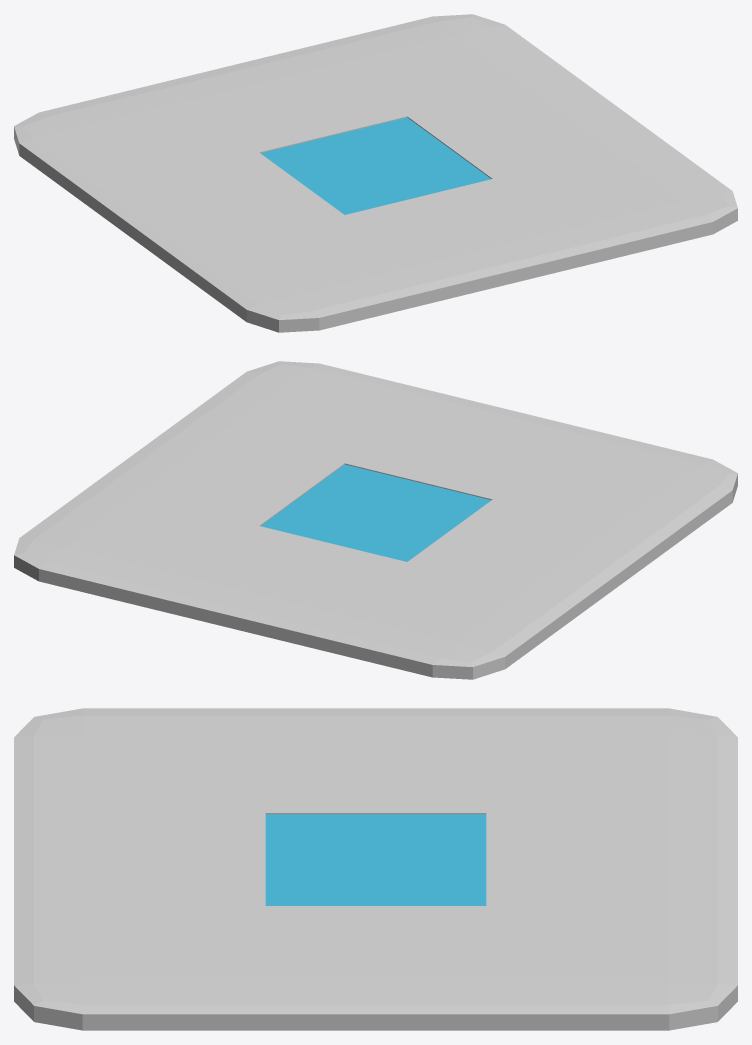
The model's file is Platform.fbx.
3 views of the same model, one above another, from view 1: azimuth 30°, elevation 25°; view 2: azimuth 150°, elevation 25°; view 3: azimuth 270°, elevation 25° (orthographic). The views are drawn at different scales.
Parts seen in each view (by area): view 1: Cube; view 2: Cube; view 3: Cube.
Boxes of the visible parts, x1,y1,x2,y2 form: Cube: (14, 14, 737, 332); Cube: (14, 361, 737, 679); Cube: (14, 708, 737, 1030).
Bounding box in the file's own units: 546 × 16.67 × 546.
